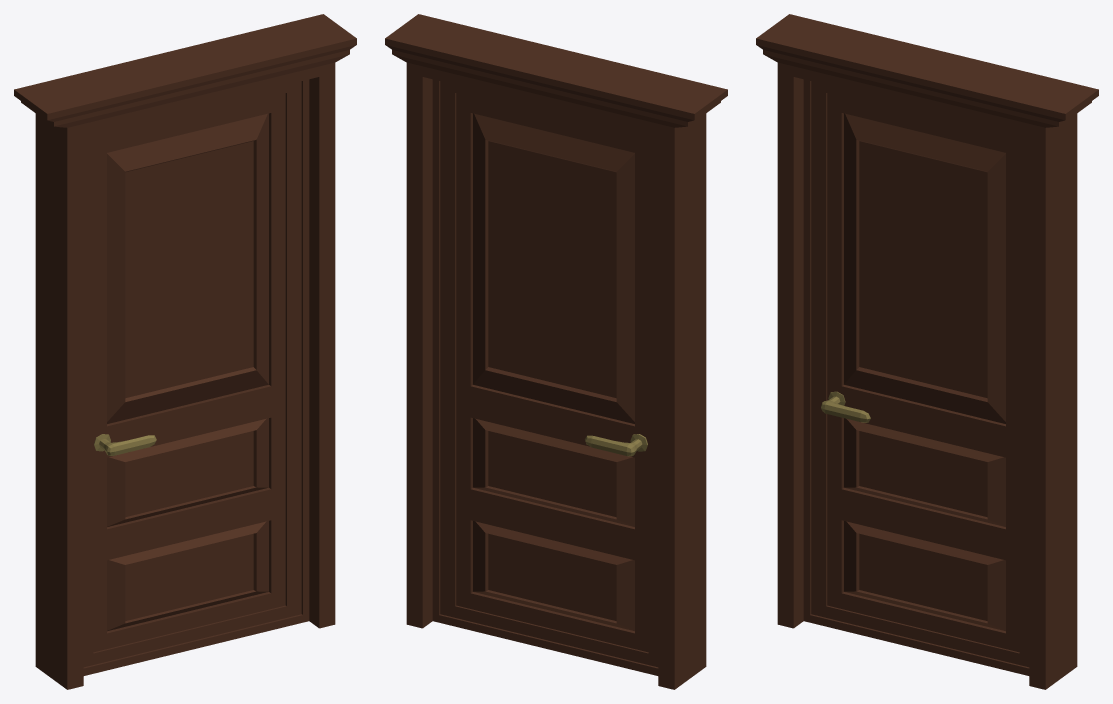
File: Door3.glb
The picture shows the model from 3 angles, left to right: view 1: azimuth 30°, elevation 25°; view 2: azimuth 150°, elevation 25°; view 3: azimuth 330°, elevation 25°; orthographic projection.
Visible parts, largest first — view 1: Door3; view 2: Door3; view 3: Door3.
Part boxes in pixels (left/top/right/bottom): Door3: left=14, top=14, right=356, bottom=689; Door3: left=385, top=14, right=727, bottom=689; Door3: left=756, top=14, right=1098, bottom=689.
Bounding box in the file's own units: 1.75 × 3.14 × 0.3272.
